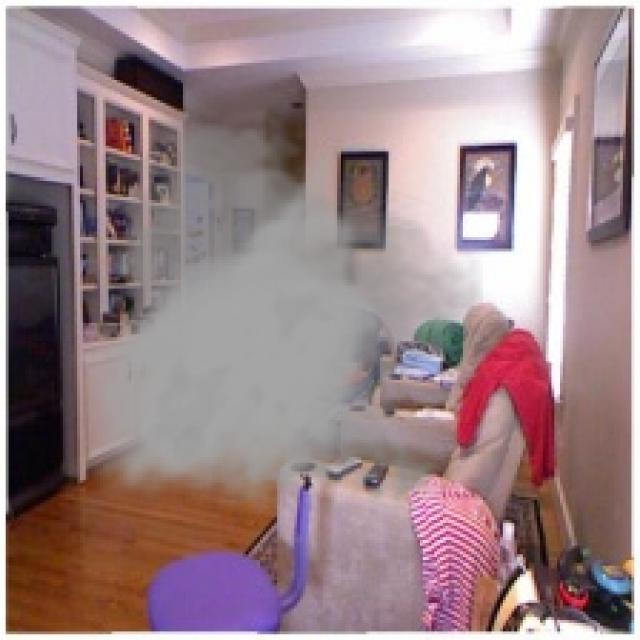smoke: (68, 117, 483, 514)
